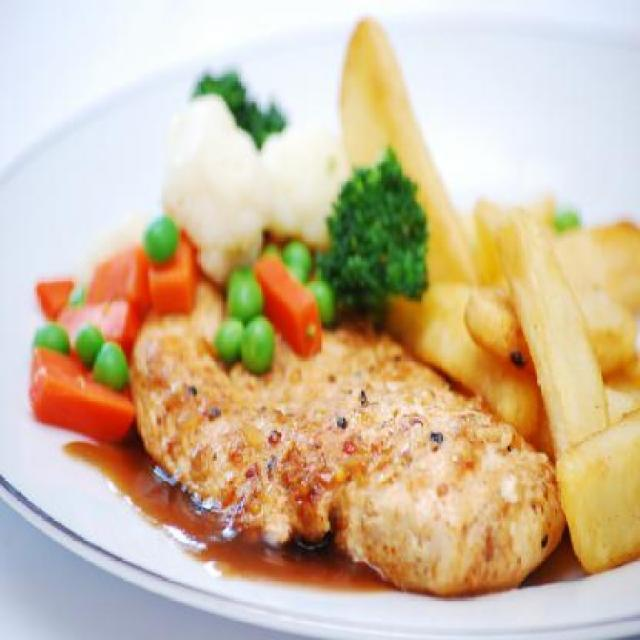French fries: (323, 2, 640, 580)
